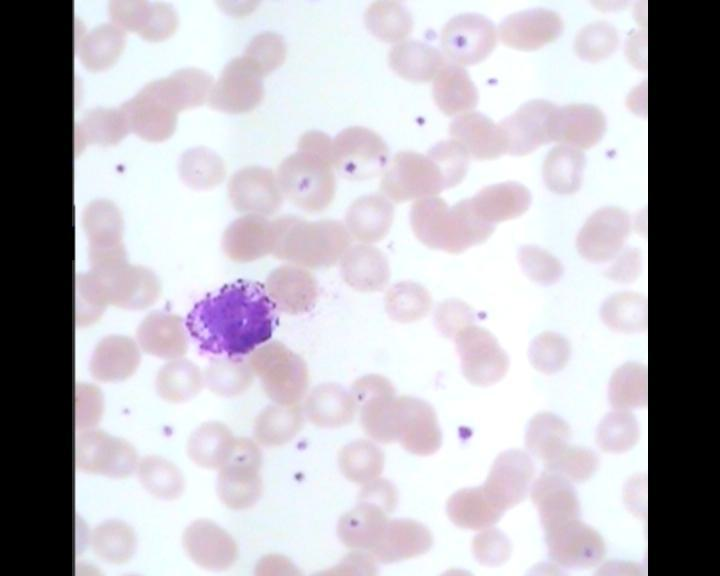baso: (179, 272, 284, 365)
